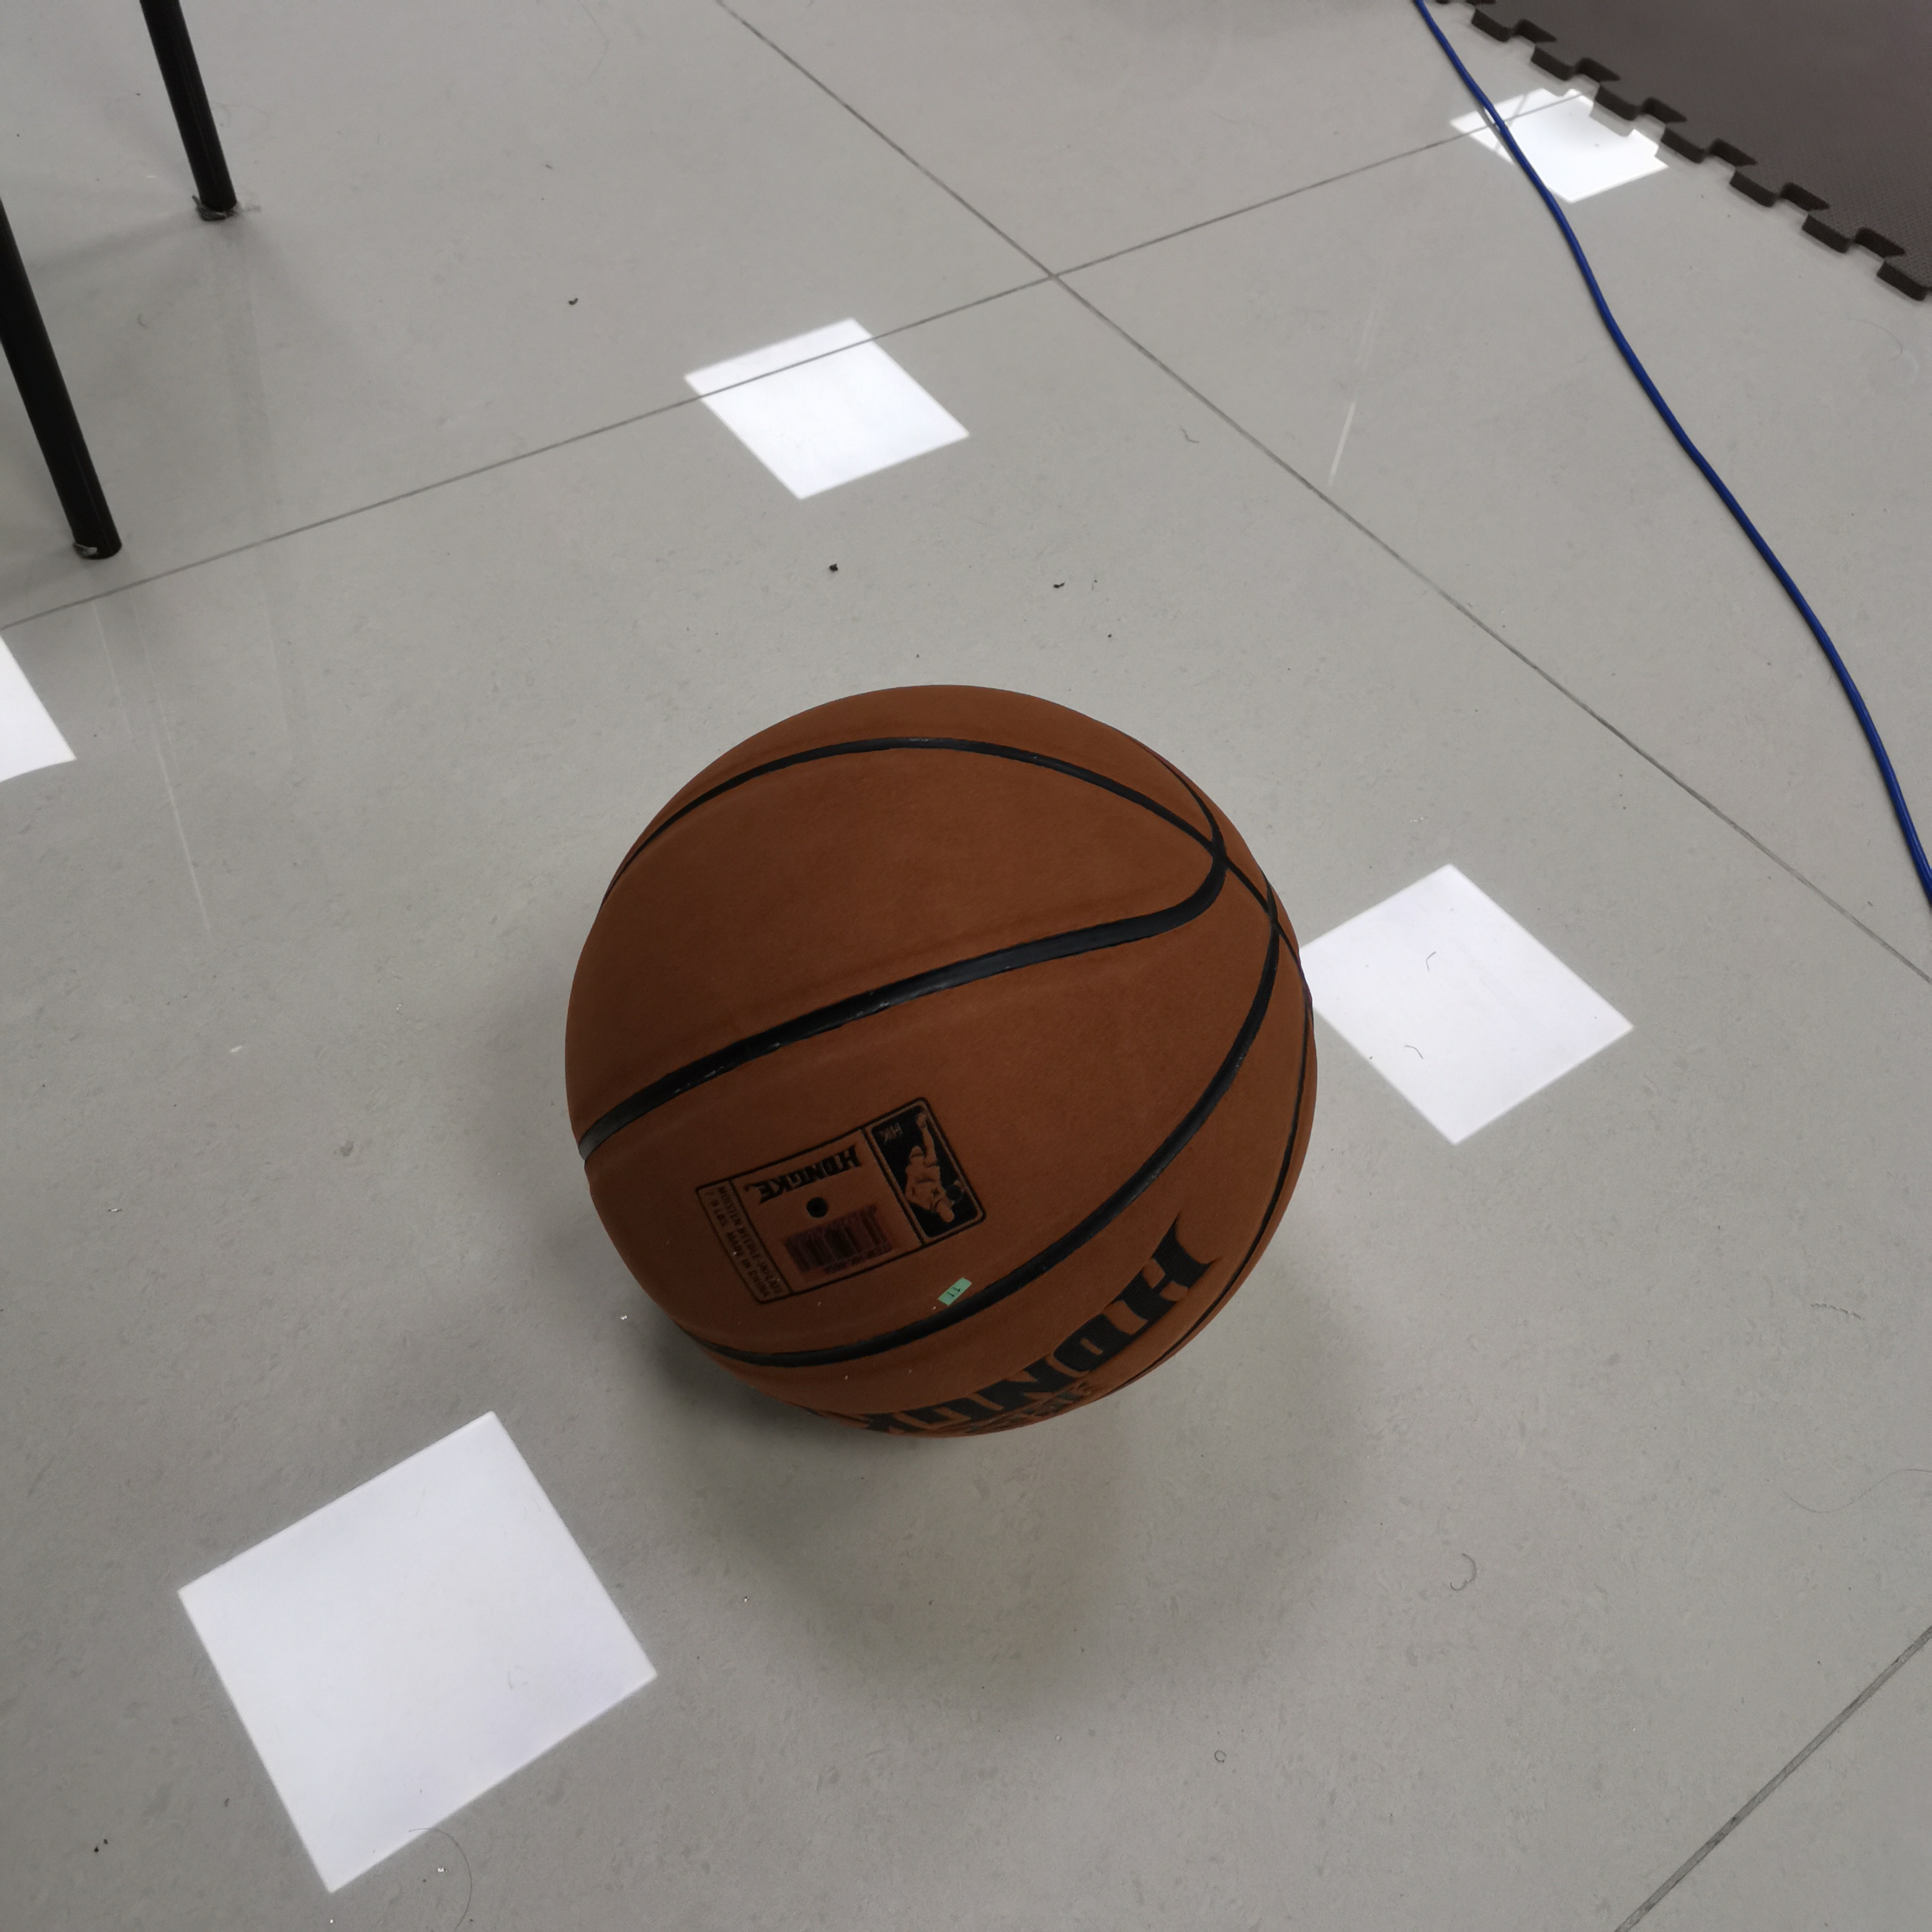basketball: (566, 692, 1318, 1447)
